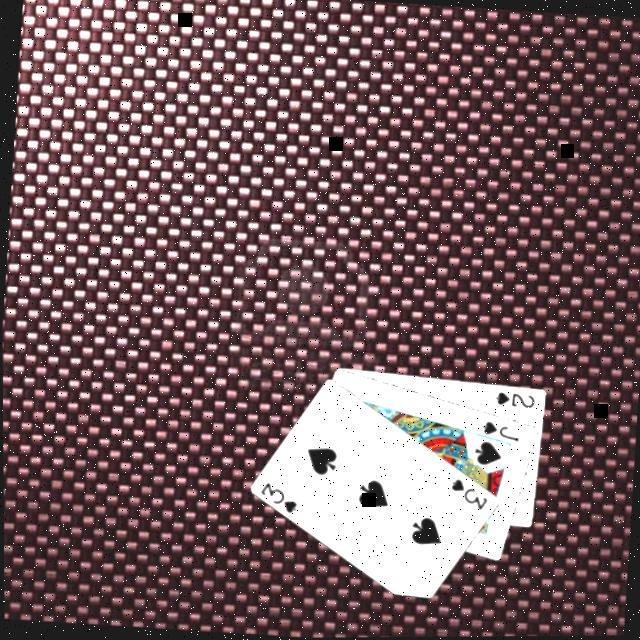2S: (490, 386, 536, 409)
3S: (444, 472, 489, 512), (253, 476, 299, 515)
JS: (476, 416, 520, 442)
